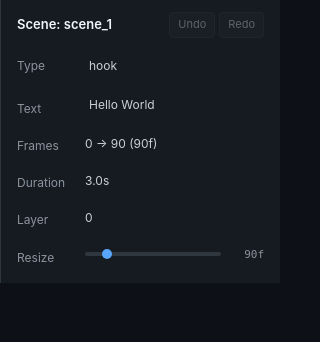
Scenario: Inspector › enters edit mode on text click
This screenshot has width=320, height=342.
Click the text "Hello World".
click(122, 104)  # box [85,93,159,116]
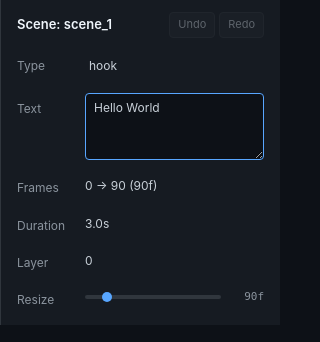
Expected: the text box is shown, [85,93,264,160]
